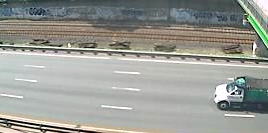car: (210, 74, 268, 120)
